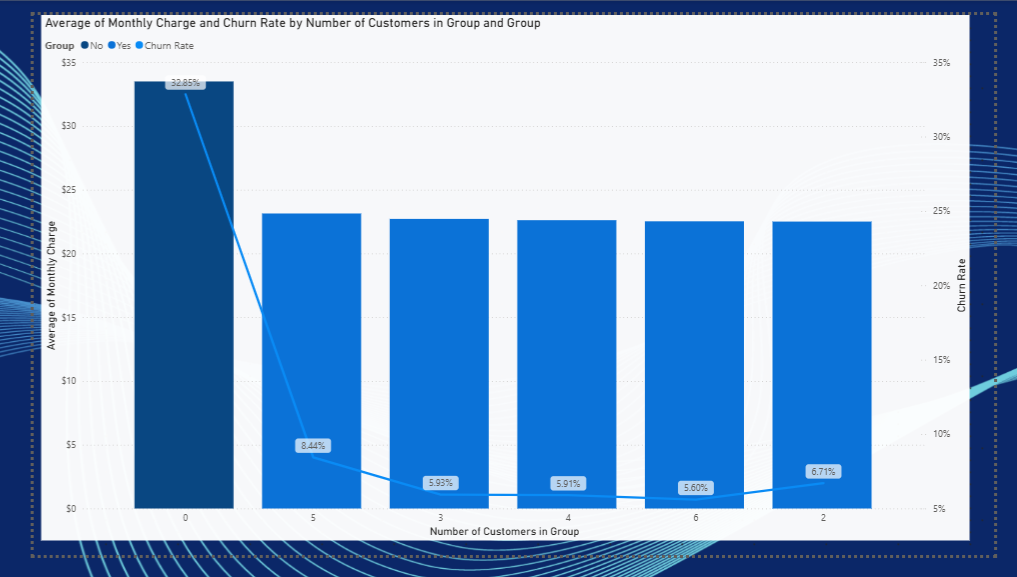

The page's visual inventory and layout, read from the dashboard file:
{"tool":"powerbi","page":{"name":"Number of customers in Group by Churn","canvas":[1280,720],"ordinal":6},"visuals":[{"type":"lineStackedColumnComboChart","fields":{"Category":["Databel - Data.Number of Customers in Group"],"Y":["Avg(Databel - Data.Monthly Charge)"],"Series":["Databel - Data.Group"],"Y2":["Databel - Data.Churn Rate"]},"box":[9.9,0,1237.4,700.7],"z":0}]}

Visuals, with their boxes in screenshot pixels (x1, y1, x2, y2), scaled from the page's 1280x720 canvas onto the 1017x577 screenshot:
lineStackedColumnComboChart - Databel - Data.Number of Customers in Group x Avg(Databel - Data.Monthly Charge): 8:0:991:562
